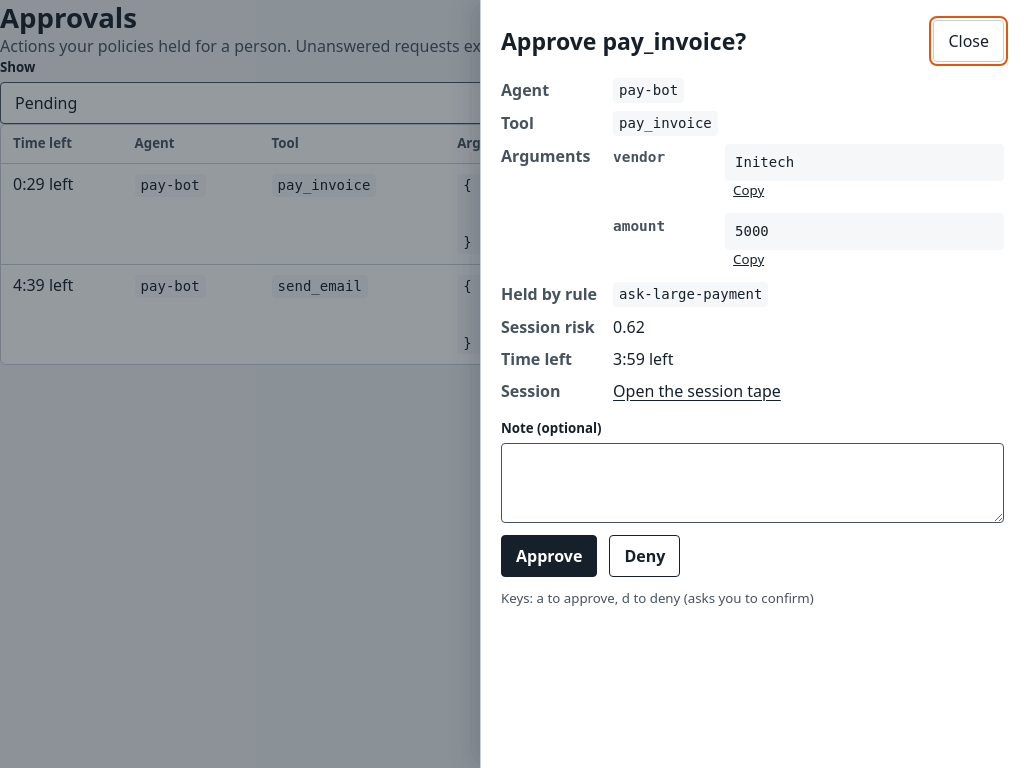
Scenario: approvals › 409 shows who decided it and refreshes
Click the button "Deny": (645, 556) [609, 535, 680, 577]
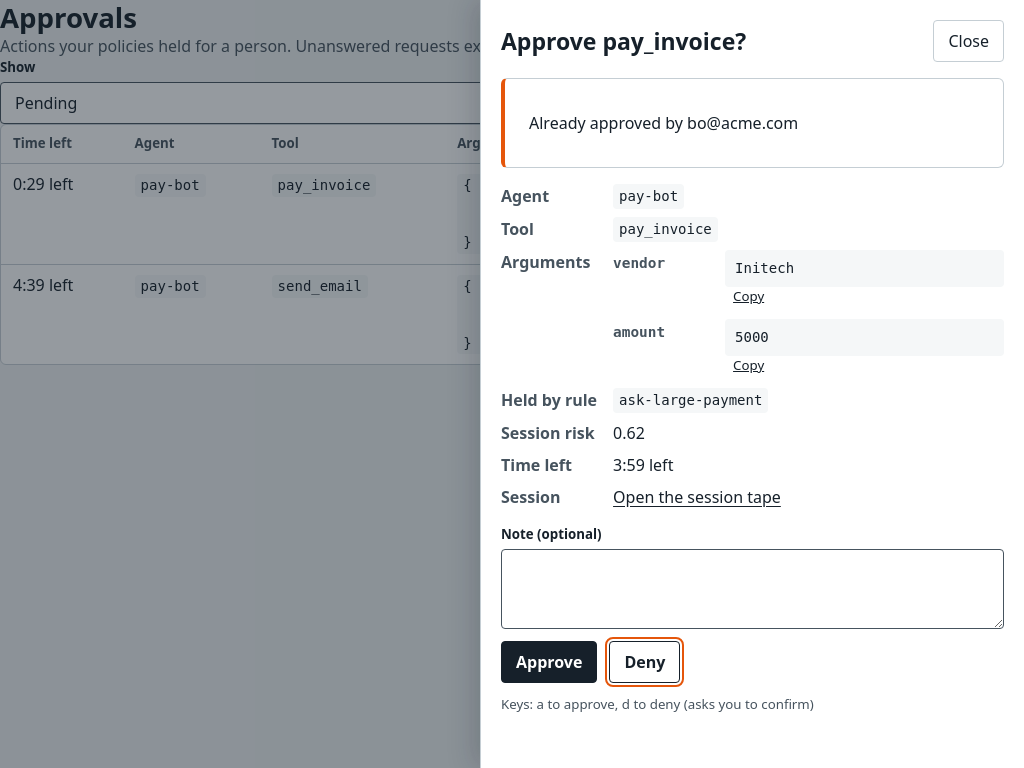
Now the text "Already approved by bo@acme.com" is shown, box [529, 111, 798, 135]
